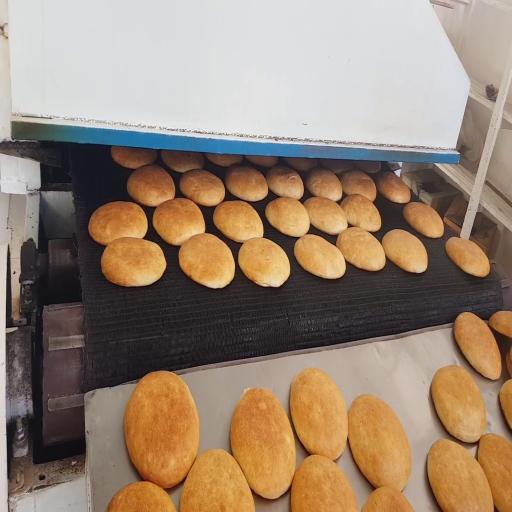bread: (124, 371, 199, 488), (230, 388, 295, 499), (348, 395, 411, 491), (290, 368, 348, 460), (427, 439, 493, 511), (180, 449, 255, 511), (431, 366, 486, 442), (291, 455, 358, 511), (454, 312, 501, 379), (101, 238, 166, 286), (179, 233, 234, 288), (238, 238, 290, 287), (478, 434, 511, 511), (89, 202, 147, 245), (153, 198, 205, 245), (294, 234, 345, 279), (336, 227, 385, 271), (213, 201, 263, 242), (382, 229, 427, 273), (107, 482, 175, 511), (127, 165, 175, 206), (446, 237, 490, 277), (266, 197, 309, 237), (304, 197, 347, 235), (180, 170, 225, 206), (341, 194, 381, 232), (225, 166, 268, 201), (403, 202, 443, 238), (362, 486, 414, 511), (266, 166, 303, 200), (306, 168, 342, 201), (340, 170, 376, 201), (377, 172, 410, 203), (111, 147, 157, 169), (161, 150, 204, 173), (489, 311, 511, 338), (500, 379, 511, 429), (206, 154, 243, 167), (320, 159, 352, 174), (284, 158, 317, 172), (246, 156, 278, 167), (353, 161, 381, 173), (506, 348, 511, 378)
